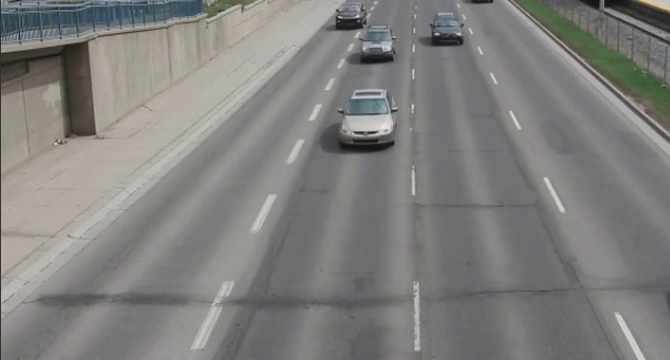car: (337, 87, 399, 150), (360, 26, 399, 62), (430, 13, 467, 47), (334, 3, 364, 29)
